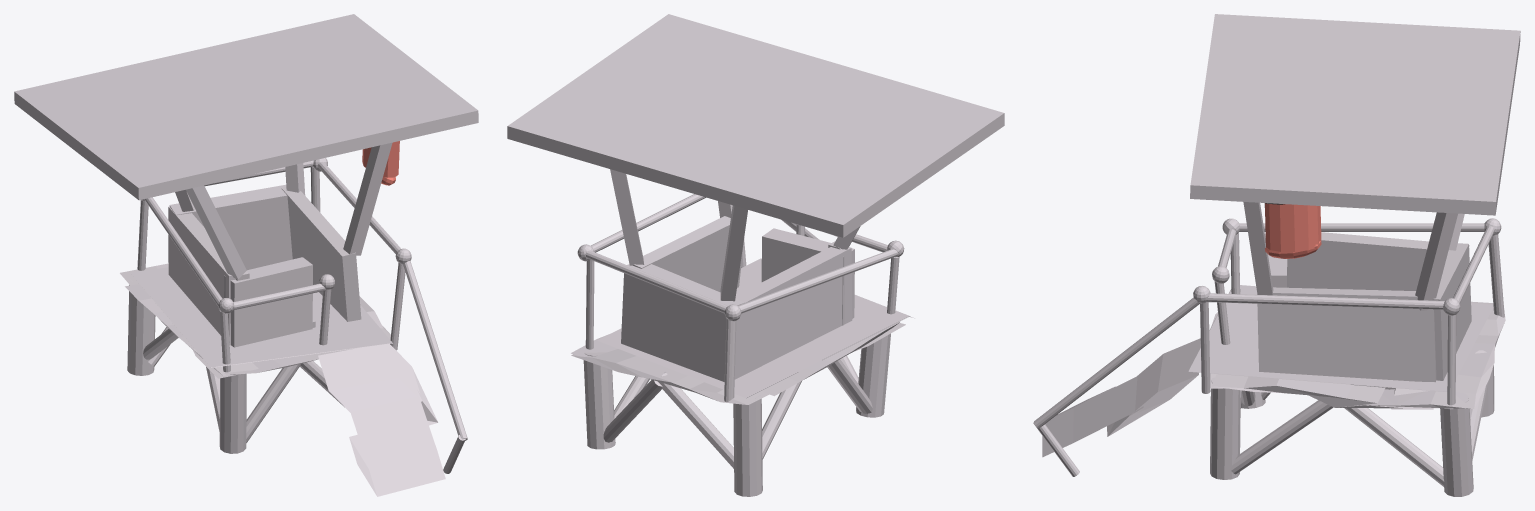
File: tower.glb
3 views of the same model, side by side, from view 1: azimuth 30°, elevation 25°; view 2: azimuth 150°, elevation 25°; view 3: azimuth 270°, elevation 25° (orthographic). The views are drawn at different scales.
Parts seen in each view (by area): view 1: group1000692817, group378736408, group2044868132, group1630419923, group39850034, group1161729516, group829961876, group483876331, group1258359076, group1538615086, group1556217622, group1609621466 (+12 smaller); view 2: group1000692817, group829961876, group39850034, group2044868132, group1161729516, group1556217622, group1257946935, group1630419923, group805740272, group1258359076, group801537856, group1188251537 (+10 smaller); view 3: group1000692817, group1161729516, group829961876, group378736408, group2044868132, group1563385796, group805740272, group39850034, group345810588, group176380931, group125514560, group1257946935 (+13 smaller).
Part boxes in pixels (x1,y1,x2,y2): group1000692817: (14, 14, 478, 200); group378736408: (318, 344, 445, 496); group2044868132: (130, 267, 392, 367); group1630419923: (224, 257, 312, 347); group39850034: (169, 184, 292, 270); group1161729516: (281, 187, 361, 321); group829961876: (168, 206, 235, 345); group483876331: (343, 142, 392, 255); group1258359076: (219, 373, 246, 453); group1538615086: (186, 185, 246, 279); group1556217622: (127, 278, 155, 375); group1609621466: (403, 261, 467, 440); group1000692817: (507, 14, 1004, 237); group829961876: (734, 247, 852, 379); group39850034: (621, 264, 744, 381); group2044868132: (597, 258, 909, 398); group1161729516: (633, 216, 744, 292); group1556217622: (733, 395, 762, 496); group1257946935: (571, 349, 768, 404); group1630419923: (761, 228, 854, 325); group805740272: (583, 352, 615, 449); group1258359076: (856, 333, 890, 417); group801537856: (720, 205, 747, 301); group1188251537: (738, 249, 898, 313); group1000692817: (1190, 14, 1520, 215); group1161729516: (1257, 287, 1436, 382); group829961876: (1288, 232, 1469, 290); group378736408: (1042, 338, 1200, 457); group2044868132: (1188, 285, 1493, 391); group1563385796: (1211, 374, 1474, 408); group805740272: (1440, 391, 1473, 496); group39850034: (1432, 243, 1471, 380); group345810588: (1210, 377, 1240, 479); group176380931: (1264, 203, 1321, 251); group125514560: (1206, 293, 1444, 309); group1257946935: (1444, 301, 1505, 408).
Size of the model in its own units: 1.46 by 1.24 by 1.63.
